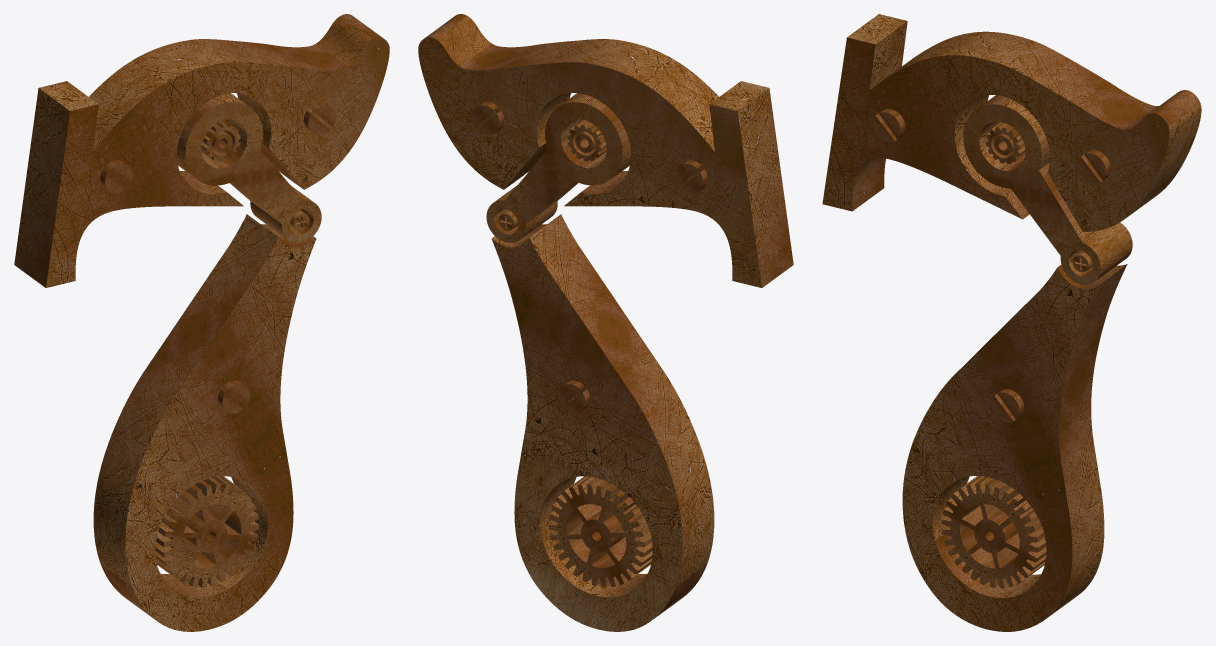
The picture shows the model from 3 angles, left to right: view 1: azimuth 30°, elevation 25°; view 2: azimuth 150°, elevation 25°; view 3: azimuth 330°, elevation 25°; orthographic projection.
Parts seen in each view (by area): view 1: 011, 048, Lever_040, Cogwheel_345, Cogwheel_348, Screw_662, Screw_667, Screw_661; view 2: 011, 048, Lever_040, Cogwheel_345, Cogwheel_348, Screw_662, Screw_667, Screw_661; view 3: 011, 048, Lever_040, Cogwheel_345, Cogwheel_348, Screw_667, Screw_661, Screw_662.
Part boxes in pixels (box(x1,y1,x2,y2)): 011: box(93, 214, 316, 631); 048: box(14, 14, 389, 287); Lever_040: box(177, 93, 321, 243); Cogwheel_345: box(155, 476, 259, 587); Cogwheel_348: box(201, 120, 240, 161); Screw_662: box(100, 160, 132, 193); Screw_667: box(218, 380, 250, 413); Screw_661: box(304, 102, 335, 134); 011: box(491, 214, 714, 631); 048: box(418, 14, 793, 287); Lever_040: box(486, 93, 630, 242); Cogwheel_345: box(548, 476, 652, 587); Cogwheel_348: box(567, 120, 606, 161); Screw_662: box(675, 160, 707, 193); Screw_667: box(557, 380, 589, 413); Screw_661: box(472, 102, 503, 134); 011: box(902, 264, 1127, 631); 048: box(822, 14, 1201, 231); Lever_040: box(963, 95, 1132, 284); Cogwheel_345: box(941, 476, 1046, 588); Cogwheel_348: box(985, 122, 1025, 164); Screw_667: box(991, 389, 1023, 422); Screw_661: box(1078, 150, 1110, 183); Screw_662: box(872, 109, 905, 142).
Bounding box in the file's own units: 62.55 × 98.09 × 12.89.
Materials: 1 (1 with a texture image).
